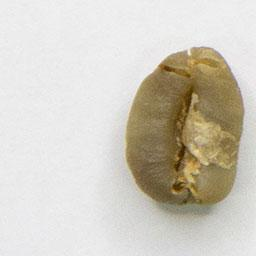premium: (121, 42, 249, 211)
